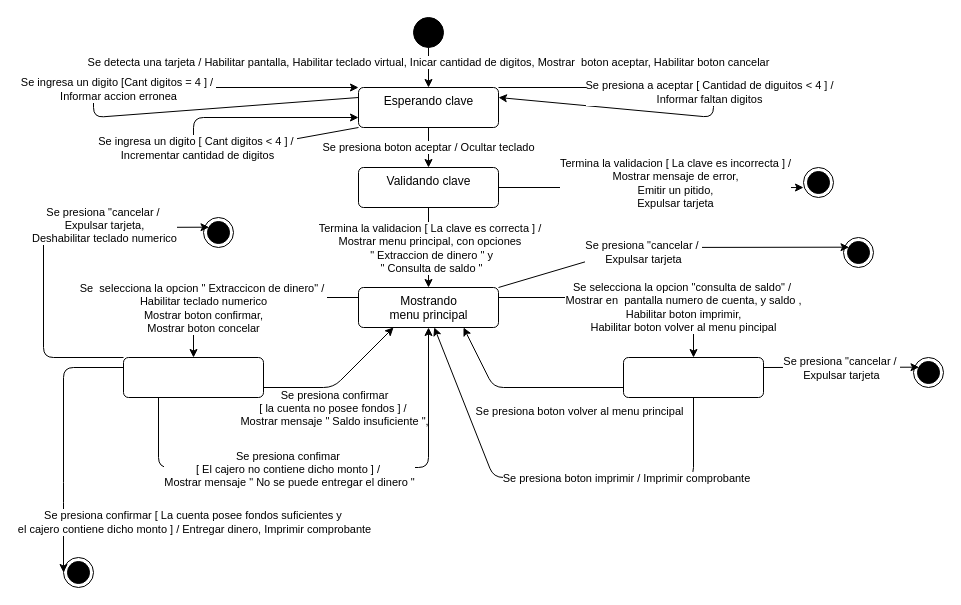
Image size: 961x605. Some labels were removed from this diagram. The centre of each missing label's shape, as x and y in pixels:
"Esperando monto" goes at pixel 193 377.
"Mostrando saldo" goes at pixel 693 377.
